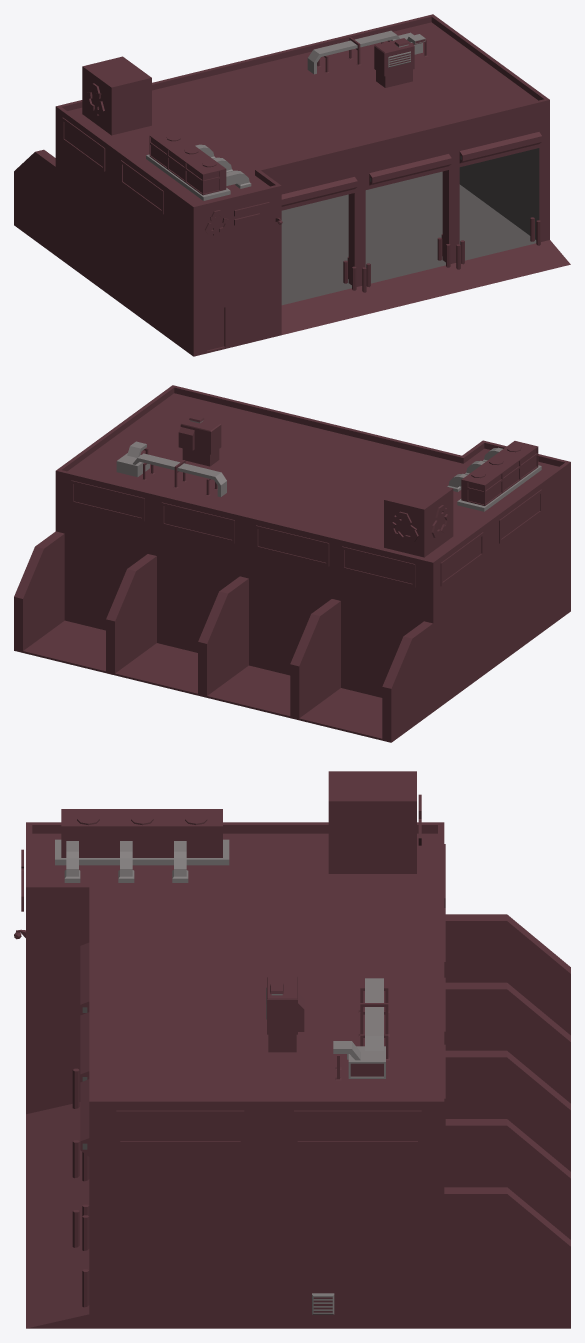
The model's file is landfill-big.fbx.
3 renders of one model, top to bottom at view 1: azimuth 30°, elevation 25°; view 2: azimuth 150°, elevation 25°; view 3: azimuth 270°, elevation 25°, orthographic. The views are drawn at different scales.
Visible parts, largest first — view 1: landfill-big; view 2: landfill-big; view 3: landfill-big.
Part boxes in pixels (<box>): landfill-big: <box>14,14,570,356</box>; landfill-big: <box>14,385,570,742</box>; landfill-big: <box>14,771,570,1328</box>.
Size of the model in its own units: 21.04 by 10.13 by 17.57.
